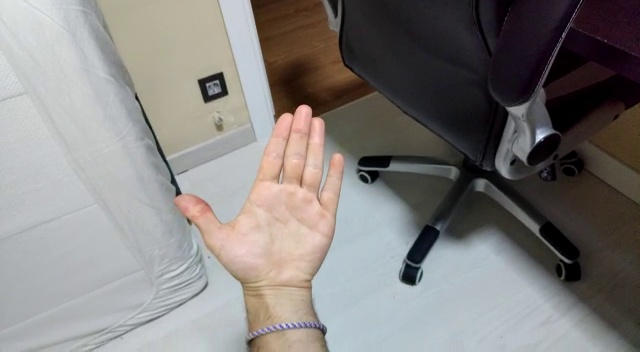Palm: (172, 103, 346, 303)
